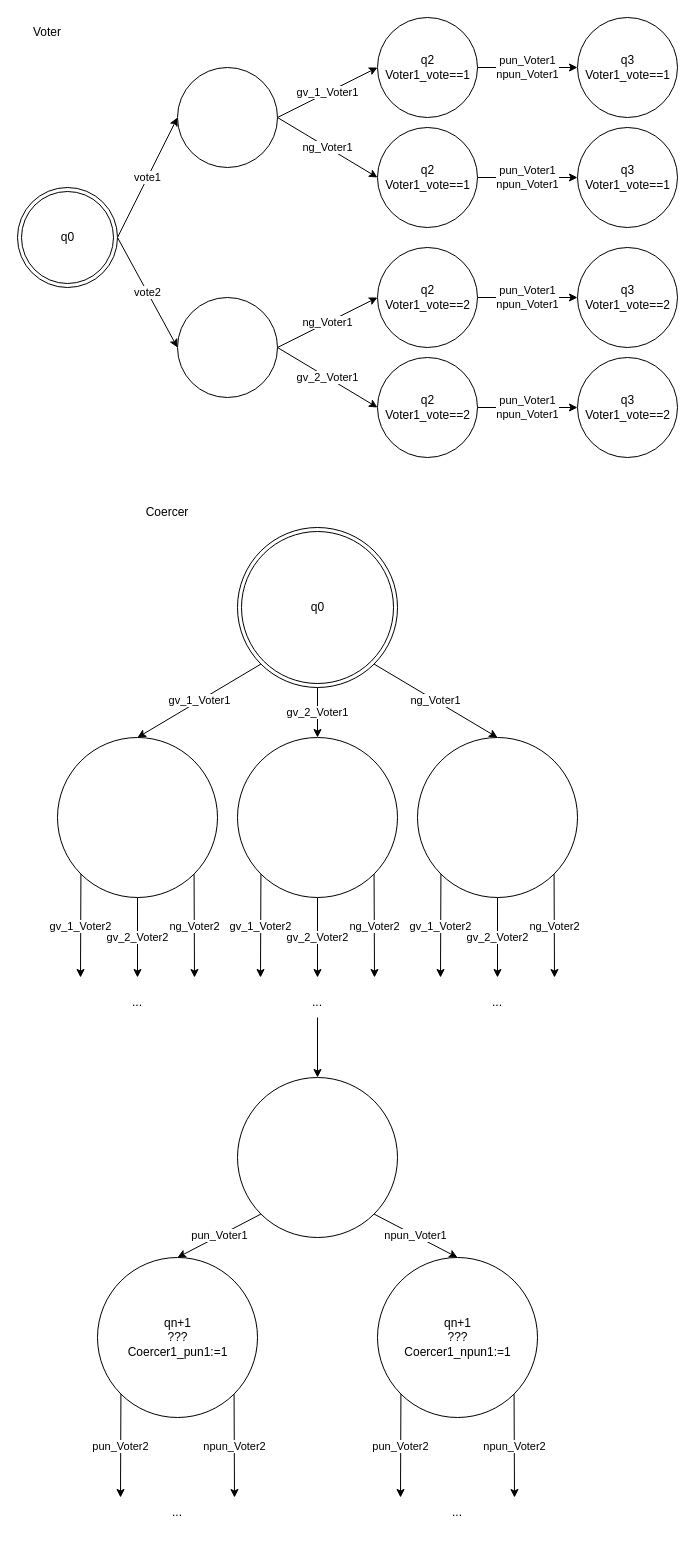
The diagram is 695 pixels wide and 1545 high, and some of its shapes have lost their labels. The shapes that lost their labels are listed below. From the top down, each one's centre as x and y in pixels, then its label:
the point at 227,117: q1 Voter1_vote==1
the point at 227,347: q1 Voter1_vote==2
the point at 137,817: q1 Coercer1_Voter1_vote:=1 Coercer1_Voter1_gv:=1
the point at 317,817: q1 Coercer1_Voter1_vote:=2 Coercer1_Voter1_gv:=1
the point at 497,817: q1 Coercer1_Voter1_gv:=2
the point at 317,1157: qn ???
